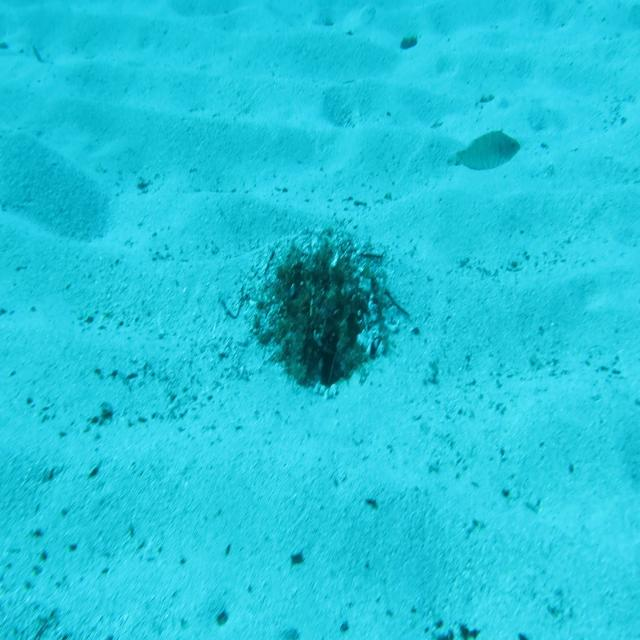SA: (444, 115, 524, 182)
nest: (246, 215, 402, 401)
